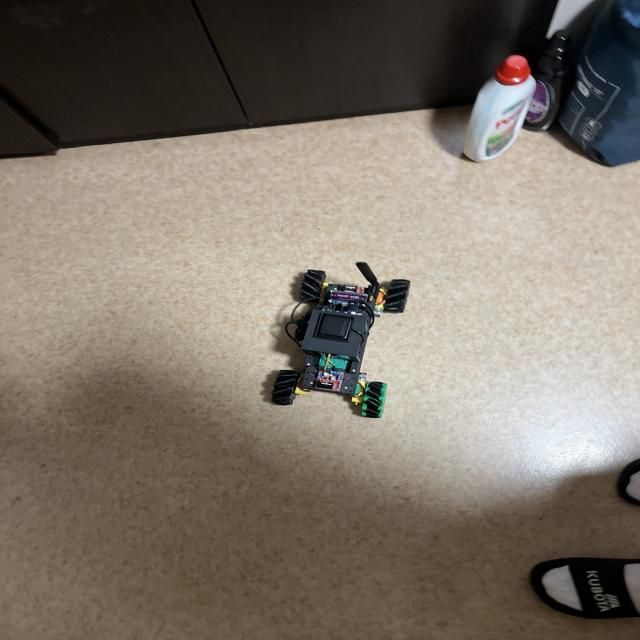robot: (271, 262, 410, 418)
